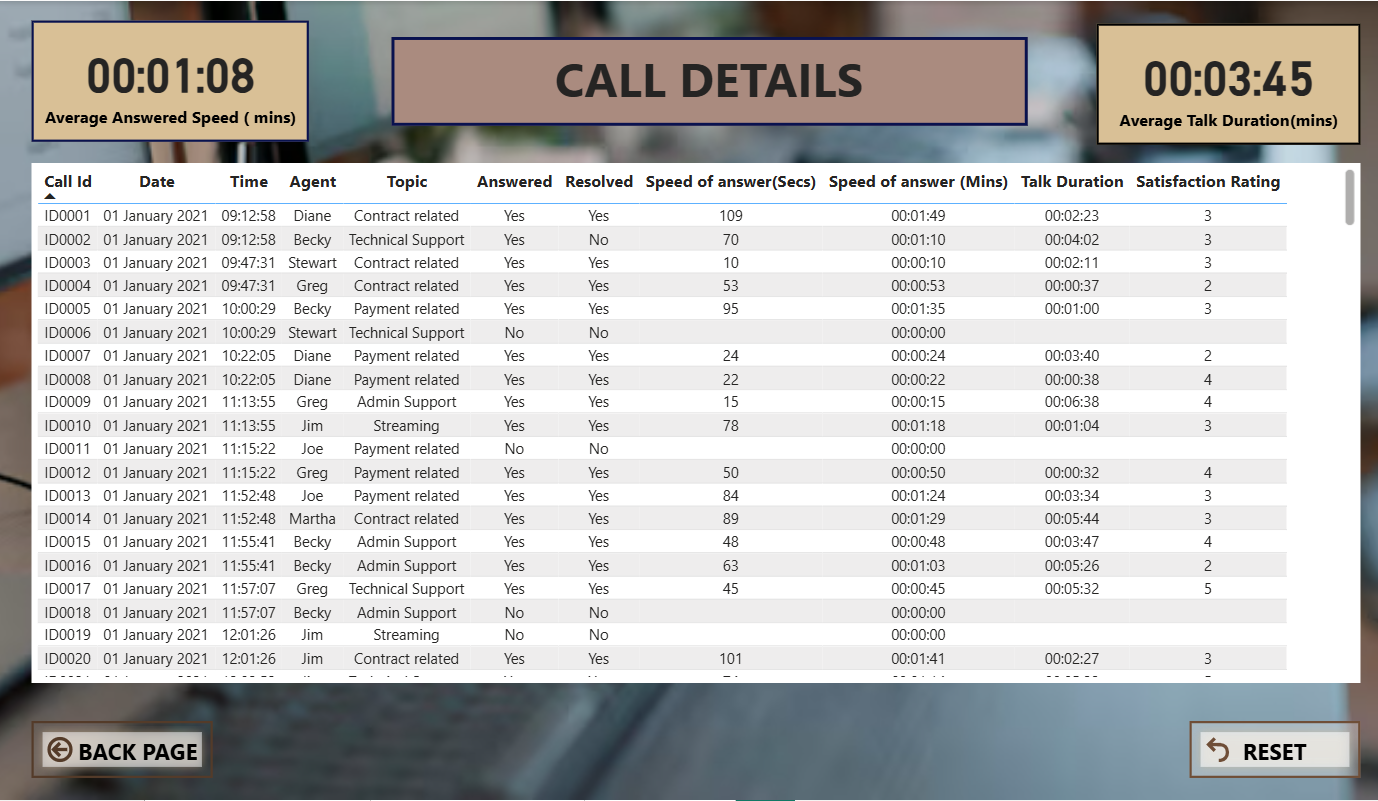

This screenshot's page, from the dashboard's own definition file:
{"tool":"powerbi","page":{"name":"Call Details","canvas":[1280,720],"ordinal":2},"visuals":[{"type":"textbox","box":[363.6,32.4,573.1,79.8],"z":0},{"type":"actionButton","box":[39.2,648.8,163.6,51.4],"z":1000},{"type":"tableEx","fields":{"Values":["Calls.Call Id","Calls.Date","Calls.Time","Calls.Agent","Calls.Topic","Calls.Answered (Y/N)","Calls.Resolved","Calls.Speed of answer in seconds","Calls.Talk duration in min","Calls.AvgTalkDuration","Calls.Satisfaction rating"]},"box":[39.2,146,1197.6,467.7],"z":2000},{"type":"card","fields":{"Values":["Calls.Average_AnsweredSpeed1"]},"box":[39.2,17.6,250.1,109.5],"z":3000},{"type":"card","fields":{"Values":["Calls.Avg Talk(Secs)1"]},"box":[998.9,20.3,237.9,109.5],"z":4000},{"type":"actionButton","box":[1082.7,648.8,154.1,51.4],"z":5000}]}

Visuals, with their boxes in screenshot pixels (x1, y1, x2, y2):
textbox: [left=397, top=36, right=1027, bottom=123]
actionButton: [left=40, top=714, right=220, bottom=771]
tableEx - Calls.Call Id x Calls.Date: [left=40, top=161, right=1358, bottom=675]
card - Calls.Average_AnsweredSpeed1: [left=40, top=19, right=315, bottom=140]
card - Calls.Avg Talk(Secs)1: [left=1096, top=22, right=1358, bottom=143]
actionButton: [left=1188, top=714, right=1358, bottom=771]
